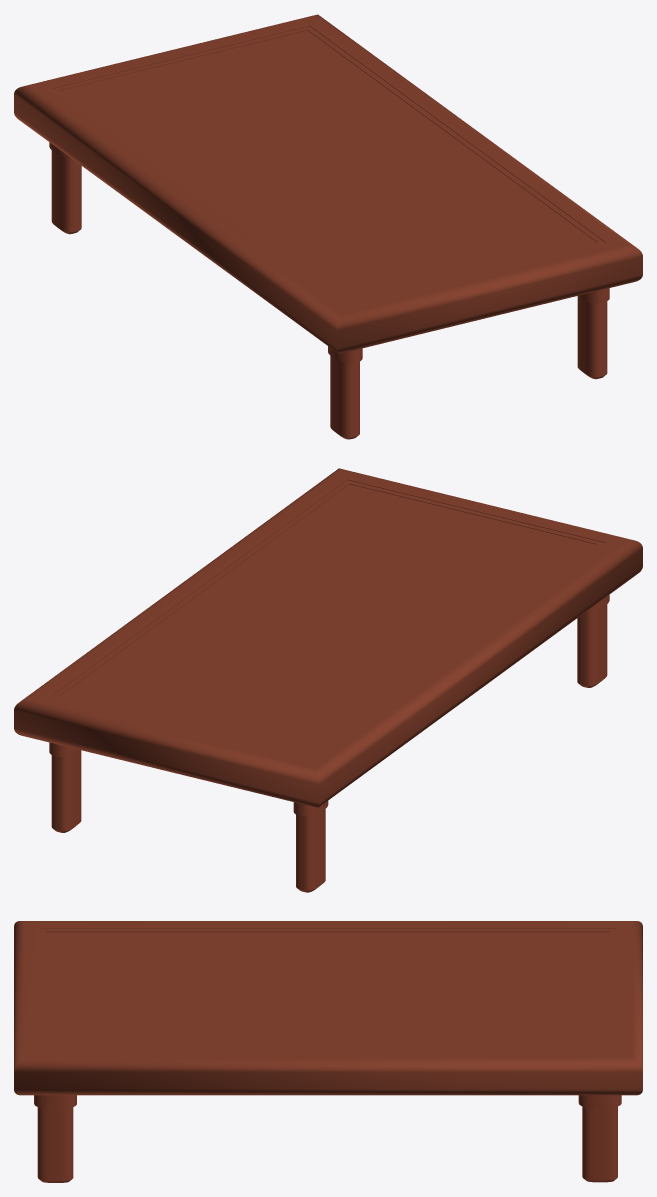
The model's file is coffee_table__29a509d8be0b.glb.
The picture shows the model from 3 angles, top to bottom: view 1: azimuth 30°, elevation 25°; view 2: azimuth 150°, elevation 25°; view 3: azimuth 270°, elevation 25°; orthographic projection. The views are drawn at different scales.
Visible parts, largest first — view 1: slab, shaft.003, shaft.002, shaft; view 2: slab, shaft.001, shaft, shaft.002; view 3: slab, shaft.003, shaft.001.
Boxes of the visible parts, bbox=[...] form: slab: bbox=[14, 14, 642, 353]; shaft.003: bbox=[577, 288, 609, 379]; shaft.002: bbox=[328, 346, 362, 439]; shaft: bbox=[49, 142, 81, 234]; slab: bbox=[14, 468, 642, 807]; shaft.001: bbox=[49, 742, 81, 832]; shaft: bbox=[293, 801, 328, 892]; shaft.002: bbox=[577, 595, 609, 687]; slab: bbox=[14, 921, 642, 1095]; shaft.003: bbox=[34, 1095, 76, 1182]; shaft.001: bbox=[578, 1095, 621, 1182].
Size of the model in its own units: 0.6548 by 0.2763 by 1.2.
